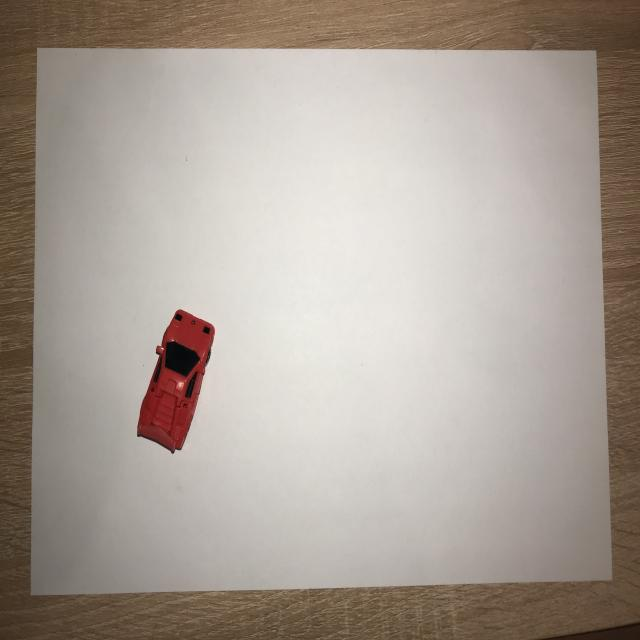car: (134, 303, 222, 457)
